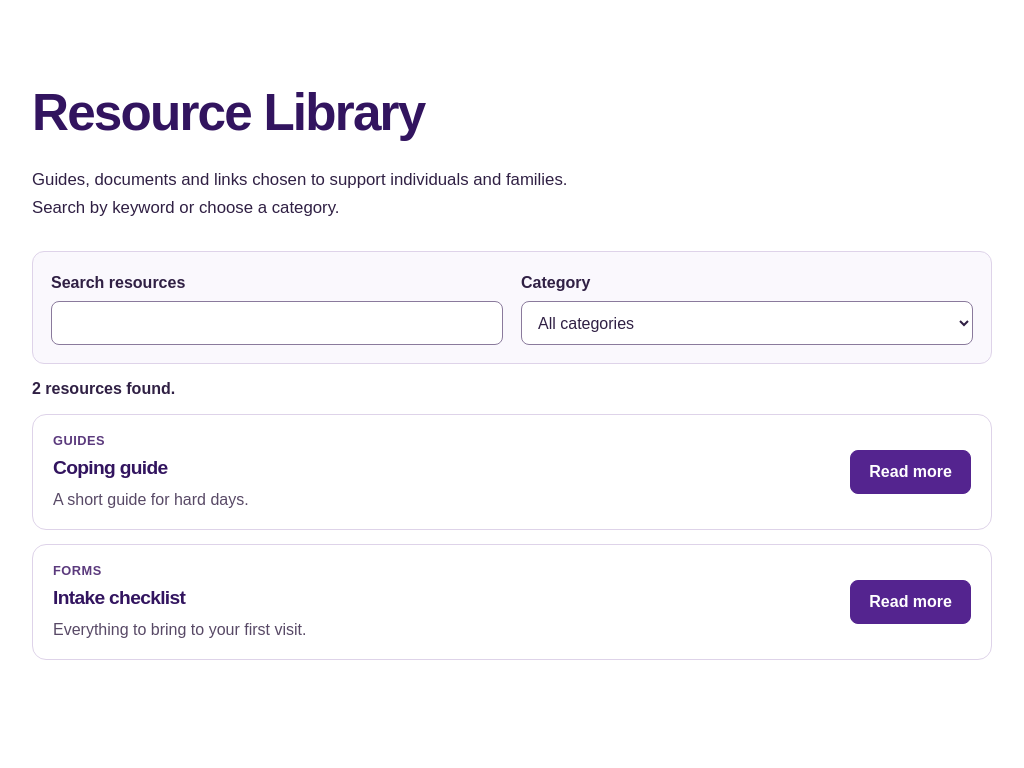
Resources page › search and category filter › filters by search word in the title
This screenshot has width=1024, height=768.
Expected: the heading "Coping guide" is shown, [53,457,168,478]
Type "checklist" into the search field labelled "Search resources" at (277, 323), box [51,301,503,345]
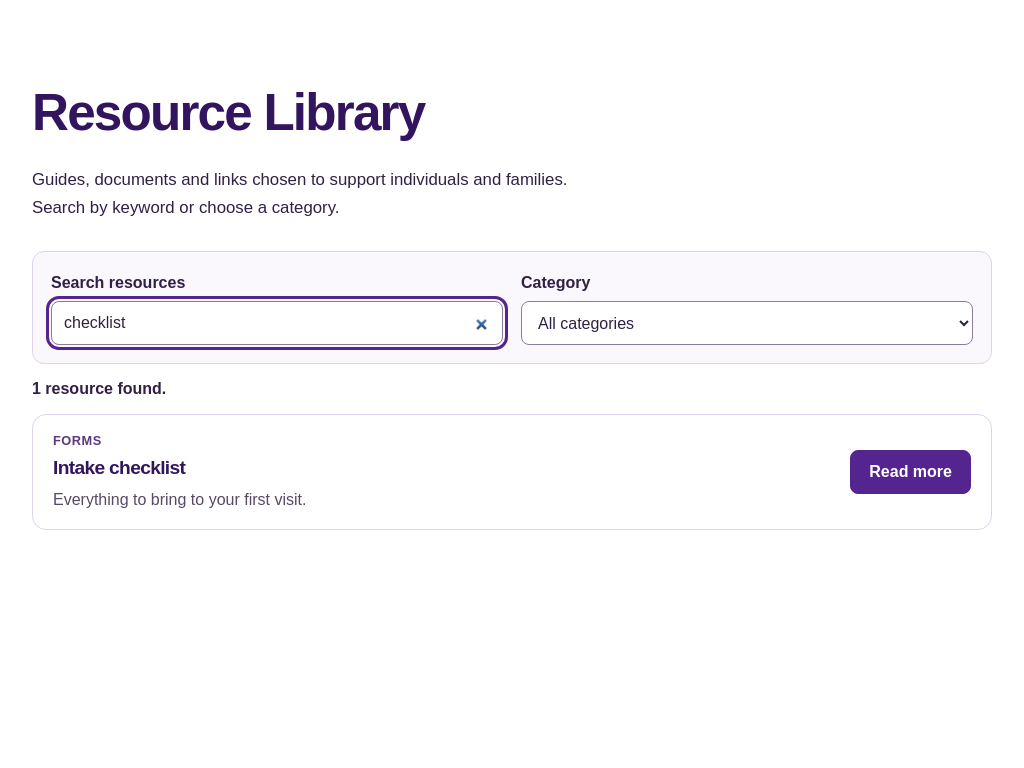
Expected: the heading "Intake checklist" is shown, [53,457,185,478]
Expected: the heading "Coping guide" is gone
Expected: the text "1 resource found." is shown, [32,380,166,397]
